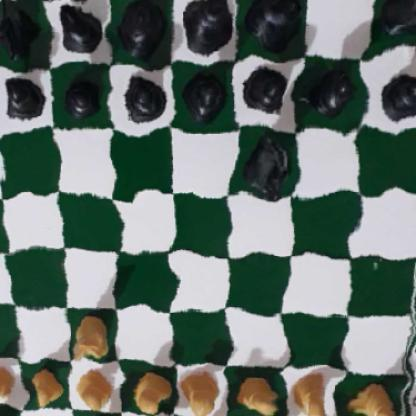black-bishop: (49, 0, 108, 57), (243, 0, 305, 48)
black-king: (178, 0, 237, 53)
black-knight: (239, 133, 288, 199), (0, 0, 36, 58)
black-pawn: (242, 63, 293, 122), (304, 58, 354, 113), (118, 65, 164, 123), (0, 66, 45, 122), (184, 64, 225, 123), (373, 65, 416, 120), (60, 72, 102, 118)
black-queen: (115, 0, 165, 51)
black-rook: (377, 0, 416, 46)
white-bishop: (82, 413, 119, 416)
white-knight: (69, 311, 111, 363)
white-pawn: (285, 372, 336, 416), (234, 372, 283, 416), (177, 368, 219, 414), (351, 380, 403, 416), (127, 364, 166, 412), (79, 364, 115, 413), (27, 364, 62, 406), (0, 361, 18, 405)
white-queen: (123, 416, 171, 416)
white-rook: (0, 412, 20, 416)
